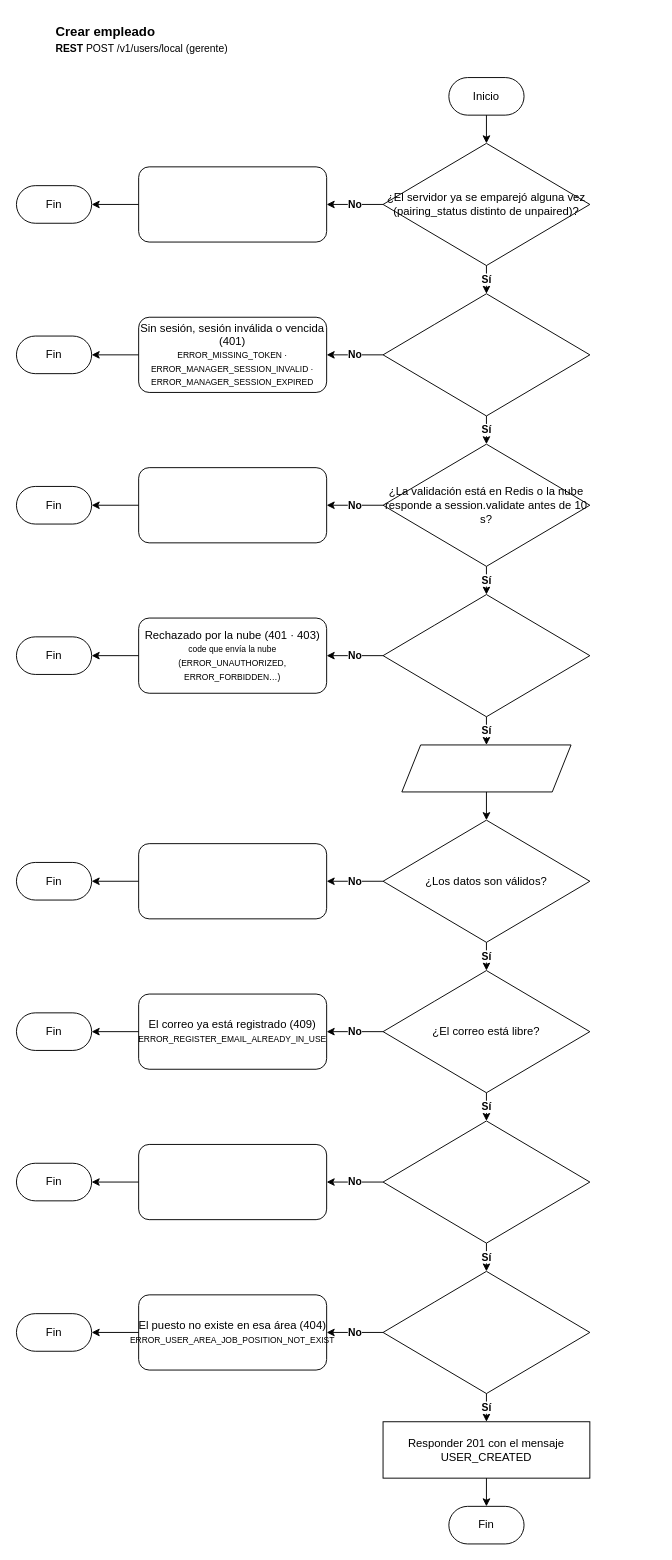
This 672x1560 diagram has some shape labels left out. The shapes that lost their labels are listed below. From the top down, each one's centre as x and y in pixels, then its label:
At (x=232, y=204): "Servidor sin emparejar (409) ERROR_SERVER_NOT_PAIRED".
At (x=486, y=354): "¿Trae una sesión de gerente válida (Bearer mss_..., sin 30 min de inactividad)?".
At (x=232, y=505): "La nube no responde (503) ERROR_CLOUD_UNAVAILABLE · ERROR_SERVER_UNLINKED".
At (x=486, y=655): "¿La nube acepta la sesión del gerente con este servidor?".
At (x=486, y=768): "Recibir datos".
At (x=232, y=881): "Datos inválidos (400) ERROR_BAD_REQUEST".
At (x=232, y=1182): "El teléfono ya está registrado (409) ERROR_REGISTER_PHONE_NUMBER_ALREADY_IN_USE".
At (x=486, y=1181): "¿El teléfono está libre?".
At (x=486, y=1332): "¿El puesto existe en esa área?".
